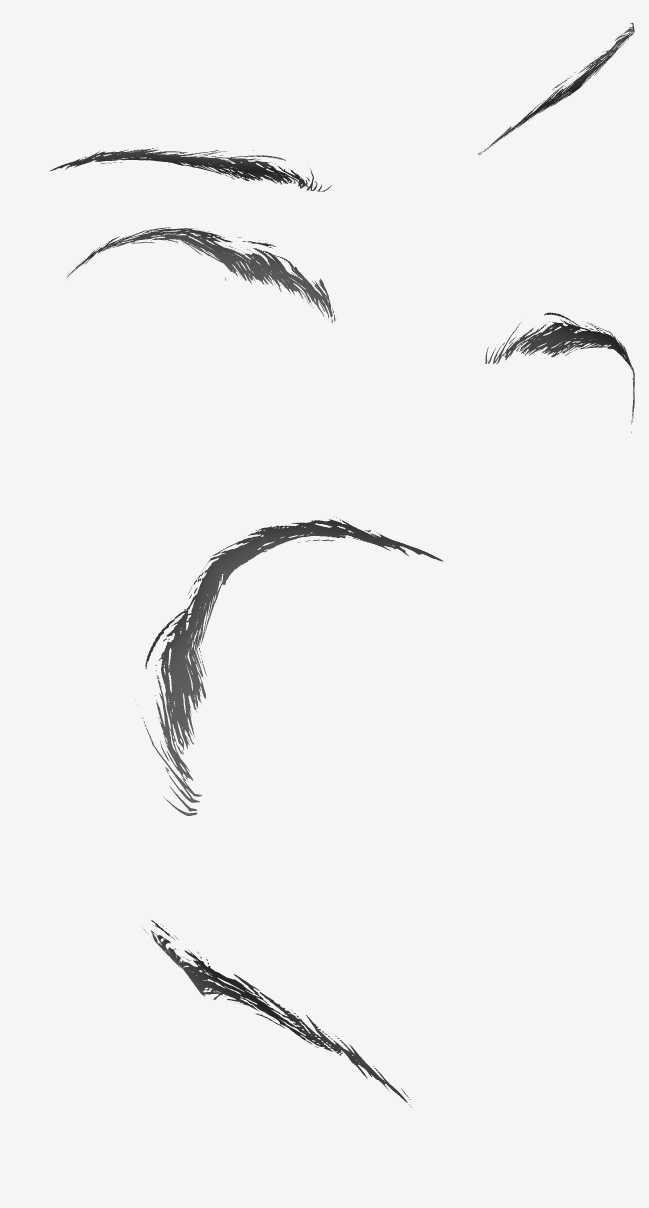
Rendered from brow011.glb.
3 renders of one model, top to bottom at view 1: azimuth 30°, elevation 25°; view 2: azimuth 150°, elevation 25°; view 3: azimuth 270°, elevation 25°, orthographic. The views are drawn at different scales.
Visible parts, largest first — view 1: editor_brow011; view 2: editor_brow011; view 3: editor_brow011.
Boxes of the visible parts, bbox=[...] form: editor_brow011: bbox=[50, 22, 634, 191]; editor_brow011: bbox=[67, 227, 634, 432]; editor_brow011: bbox=[135, 517, 443, 1107].
Bounding box in the file's own units: 0.1081 × 0.0147 × 0.0312.
Materials: 1 (1 with a texture image).
